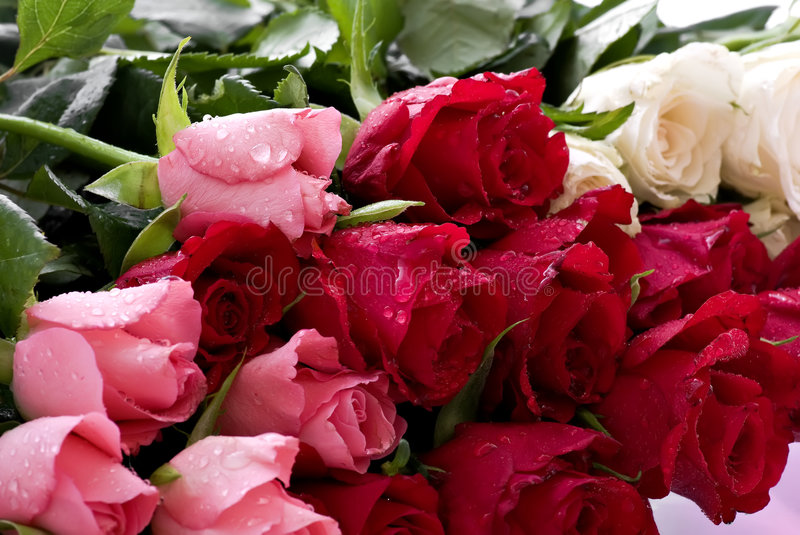RedRose: (598, 297, 800, 526), (360, 63, 566, 221), (415, 403, 652, 535), (457, 240, 622, 413), (318, 220, 484, 387), (129, 220, 301, 359), (597, 191, 761, 322), (315, 466, 441, 535)
